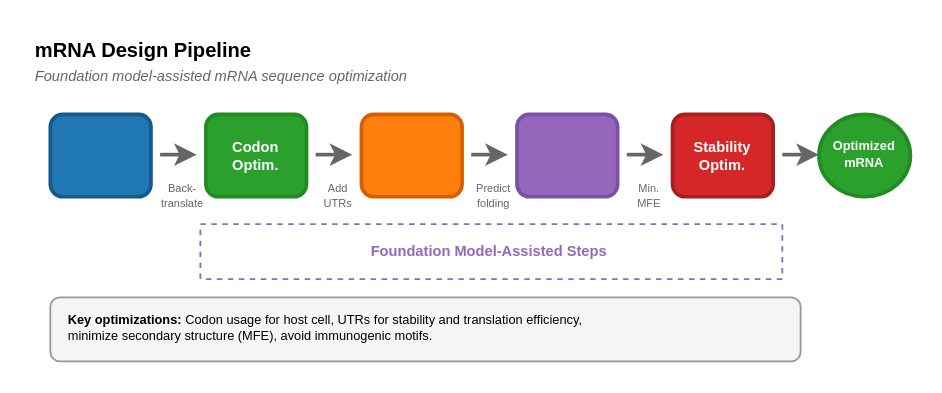
Image size: 942x393. Some labels were removed from this diagram. Each missing label, with the centre of its shape:
5'/3' UTR Design: (411,155)
Structure Predict: (566,155)
Target Protein: (100,155)
